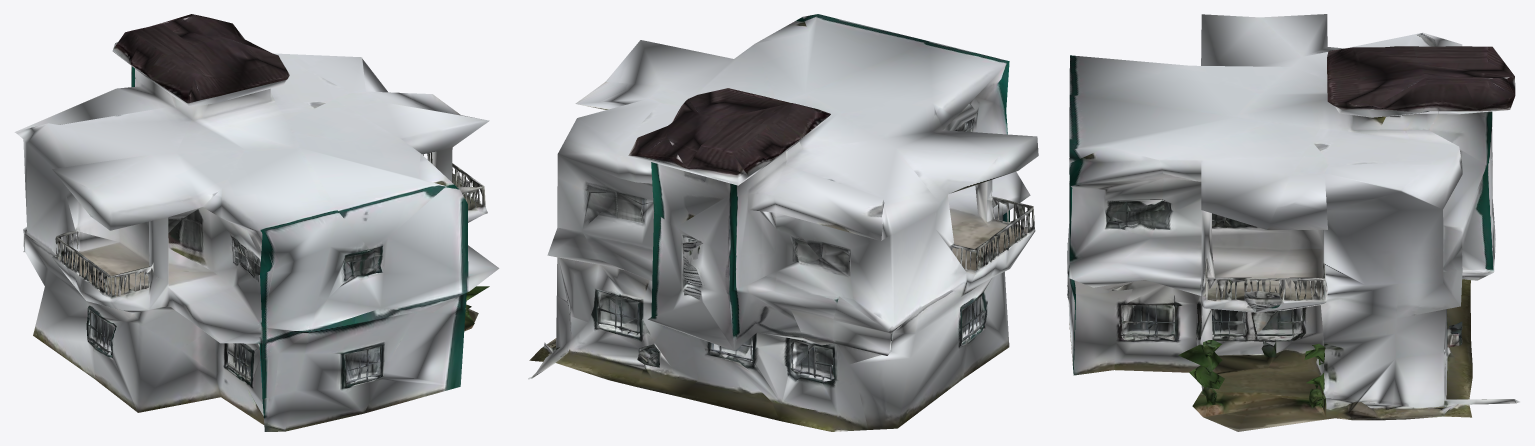
The model's file is villa-blanche.glb.
3 views of the same model, side by side, from view 1: azimuth 30°, elevation 25°; view 2: azimuth 150°, elevation 25°; view 3: azimuth 270°, elevation 25° (orthographic). The views are drawn at different scales.
Parts seen in each view (by area): view 1: tripo_node_6055baa1-b403-4bd5-a618-ba48d5c1e2a2; view 2: tripo_node_6055baa1-b403-4bd5-a618-ba48d5c1e2a2; view 3: tripo_node_6055baa1-b403-4bd5-a618-ba48d5c1e2a2.
Boxes of the visible parts, bbox=[...] form: tripo_node_6055baa1-b403-4bd5-a618-ba48d5c1e2a2: bbox=[14, 14, 499, 431]; tripo_node_6055baa1-b403-4bd5-a618-ba48d5c1e2a2: bbox=[528, 14, 1038, 431]; tripo_node_6055baa1-b403-4bd5-a618-ba48d5c1e2a2: bbox=[1067, 14, 1519, 431].
Bounding box in the file's own units: 0.9954 × 0.6255 × 0.9576.
1 material, 1 textured.
